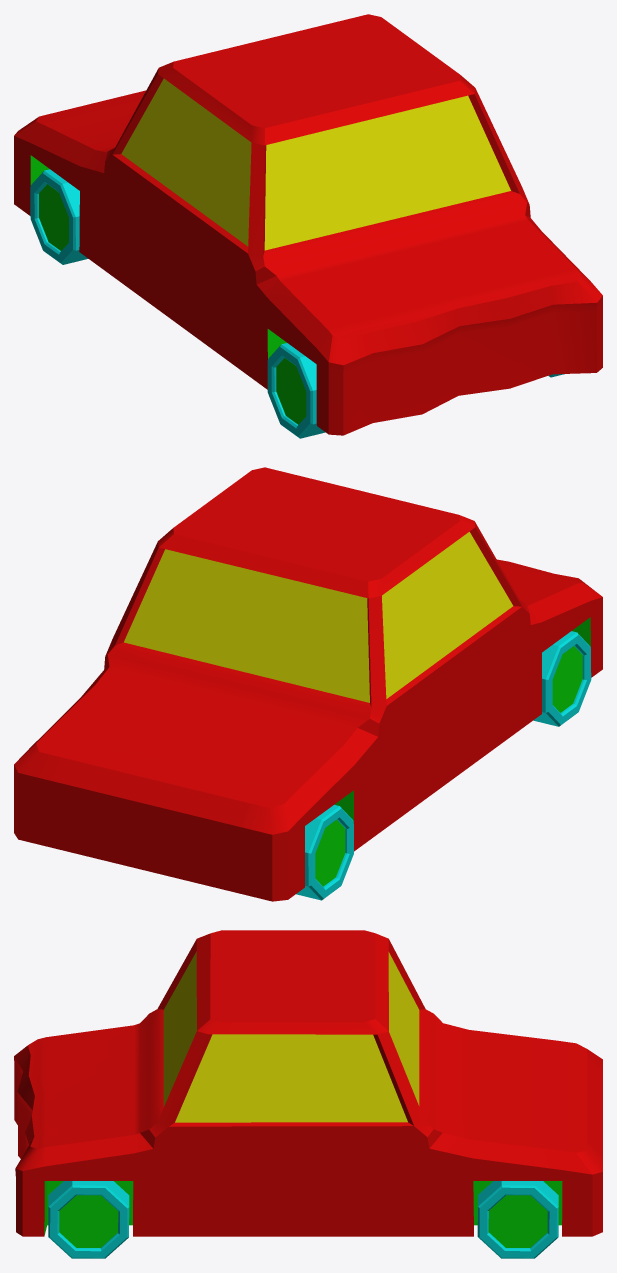
The model's file is WreckedCarD.fbx.
The picture shows the model from 3 angles, top to bottom: view 1: azimuth 30°, elevation 25°; view 2: azimuth 150°, elevation 25°; view 3: azimuth 270°, elevation 25°; orthographic projection. The views are drawn at different scales.
Visible parts, largest first — view 1: WreckedCarD; view 2: WreckedCarD; view 3: WreckedCarD.
Part boxes in pixels (bbox=[...]): WreckedCarD: bbox=[14, 14, 602, 438]; WreckedCarD: bbox=[14, 467, 602, 901]; WreckedCarD: bbox=[14, 930, 602, 1258].
Bounding box in the file's own units: 1.81 × 1.51 × 3.63.
